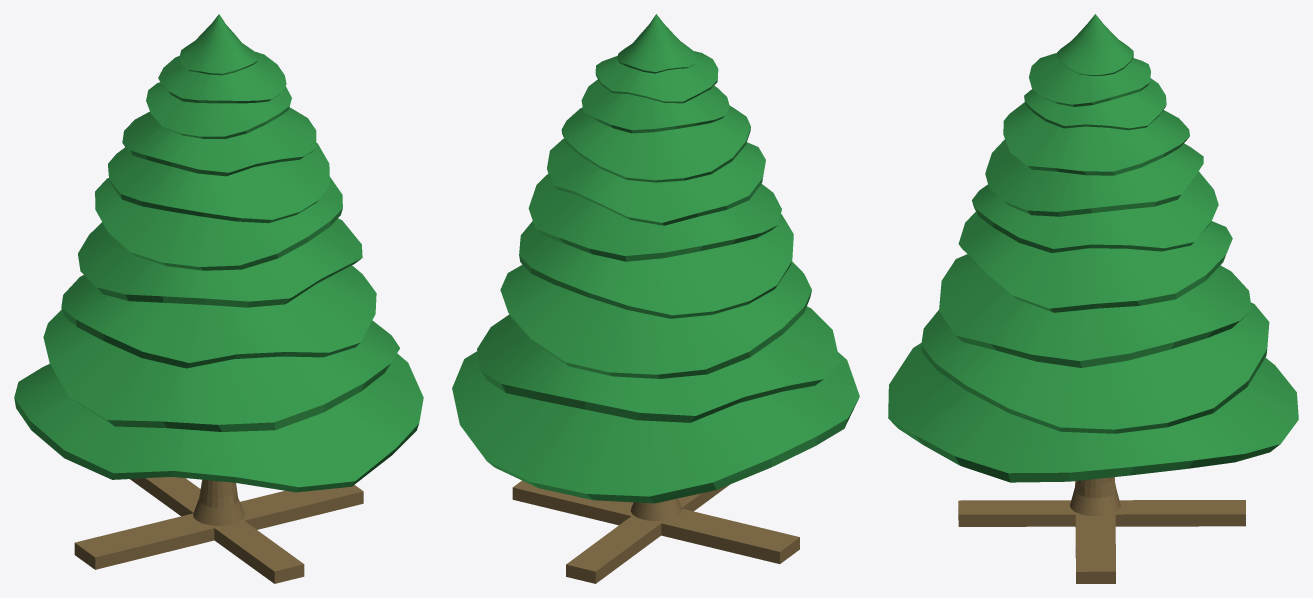
File: smallChristmasTree.fbx
3 views of the same model, side by side, from view 1: azimuth 30°, elevation 25°; view 2: azimuth 150°, elevation 25°; view 3: azimuth 270°, elevation 25° (orthographic).
Parts seen in each view (by area): view 1: christmasTreeLayer, christmasTreeLayer2, christmasTreeLayer3, christmasTreeLayer4, base1, christmasTreeLayer5, christmasTreeLayer6, christmasTreeLayer7, christmasTreeLayer10, christmasTreeLayer9, christmasTreeLayer8, trunk; view 2: christmasTreeLayer, christmasTreeLayer3, christmasTreeLayer2, christmasTreeLayer4, christmasTreeLayer5, base1, christmasTreeLayer6, christmasTreeLayer7, christmasTreeLayer10, christmasTreeLayer9, christmasTreeLayer8, trunk; view 3: christmasTreeLayer, christmasTreeLayer2, christmasTreeLayer3, christmasTreeLayer4, christmasTreeLayer5, base1, christmasTreeLayer6, christmasTreeLayer7, christmasTreeLayer9, christmasTreeLayer10, christmasTreeLayer8, trunk.
Part boxes in pixels (x1=…): christmasTreeLayer: x1=14, y1=353, x2=423, y2=492; christmasTreeLayer2: x1=43, y1=309, x2=399, y2=431; christmasTreeLayer3: x1=61, y1=265, x2=376, y2=368; christmasTreeLayer4: x1=78, y1=218, x2=362, y2=307; base1: x1=74, y1=477, x2=363, y2=583; christmasTreeLayer5: x1=95, y1=177, x2=342, y2=270; christmasTreeLayer6: x1=108, y1=142, x2=329, y2=223; christmasTreeLayer7: x1=122, y1=107, x2=316, y2=176; christmasTreeLayer10: x1=146, y1=82, x2=291, y2=139; christmasTreeLayer9: x1=158, y1=51, x2=286, y2=103; christmasTreeLayer8: x1=179, y1=14, x2=259, y2=75; trunk: x1=193, y1=479, x2=244, y2=525; christmasTreeLayer: x1=452, y1=351, x2=859, y2=503; christmasTreeLayer3: x1=500, y1=261, x2=811, y2=378; christmasTreeLayer2: x1=477, y1=306, x2=839, y2=422; christmasTreeLayer4: x1=519, y1=214, x2=793, y2=318; christmasTreeLayer5: x1=528, y1=173, x2=781, y2=261; base1: x1=512, y1=480, x2=799, y2=583; christmasTreeLayer6: x1=547, y1=138, x2=765, y2=225; christmasTreeLayer7: x1=561, y1=106, x2=750, y2=182; christmasTreeLayer10: x1=581, y1=79, x2=729, y2=133; christmasTreeLayer9: x1=595, y1=51, x2=718, y2=103; christmasTreeLayer8: x1=616, y1=14, x2=696, y2=73; trunk: x1=630, y1=498, x2=681, y2=521; christmasTreeLayer: x1=888, y1=343, x2=1298, y2=482; christmasTreeLayer2: x1=921, y1=302, x2=1269, y2=433; christmasTreeLayer3: x1=939, y1=254, x2=1251, y2=367; christmasTreeLayer4: x1=958, y1=212, x2=1232, y2=312; christmasTreeLayer5: x1=972, y1=171, x2=1218, y2=252; base1: x1=958, y1=477, x2=1245, y2=583; christmasTreeLayer6: x1=985, y1=139, x2=1203, y2=216; christmasTreeLayer7: x1=1003, y1=102, x2=1189, y2=175; christmasTreeLayer9: x1=1029, y1=53, x2=1150, y2=106; christmasTreeLayer10: x1=1024, y1=78, x2=1166, y2=130; christmasTreeLayer8: x1=1057, y1=14, x2=1133, y2=75; trunk: x1=1070, y1=477, x2=1120, y2=516.
Size of the model in its own units: 1.02 by 1.43 by 1.05.
